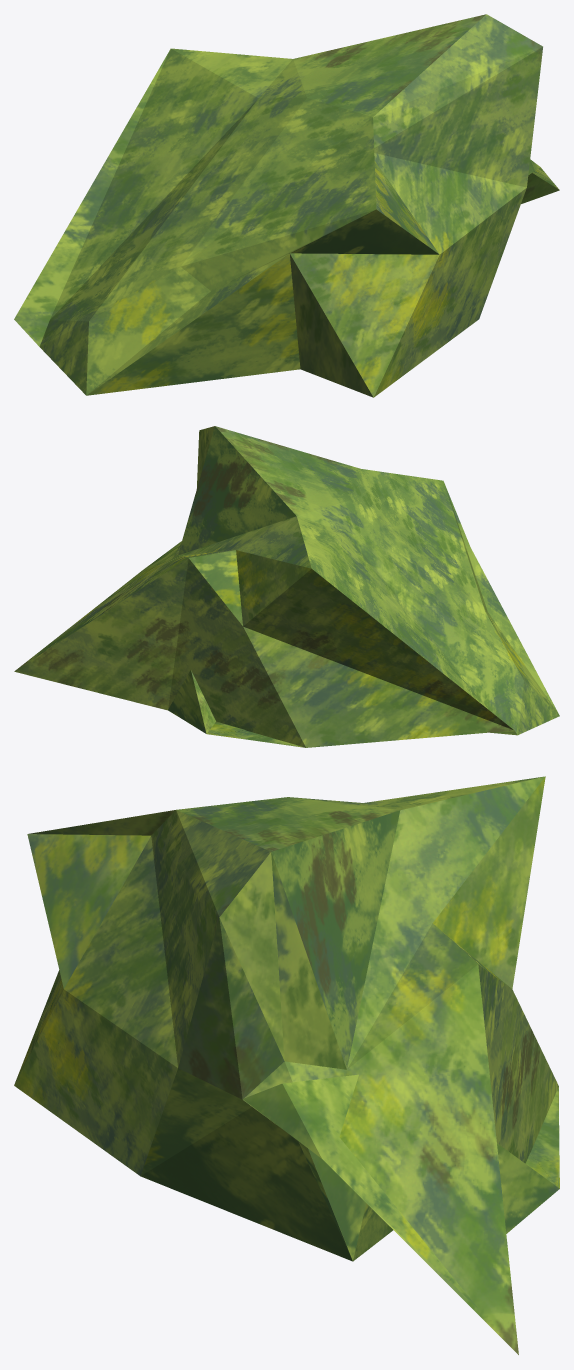
File: foliage11.glb
3 renders of one model, top to bottom at view 1: azimuth 30°, elevation 25°; view 2: azimuth 150°, elevation 25°; view 3: azimuth 270°, elevation 25°, orthographic. The views are drawn at different scales.
Visible parts, largest first — view 1: foliage1.010; view 2: foliage1.010; view 3: foliage1.010.
Part boxes in pixels (<box>): foliage1.010: <box>14,14,559,397</box>; foliage1.010: <box>14,426,559,747</box>; foliage1.010: <box>14,776,559,1354</box>.
Bounding box in the file's own units: 13.43 × 6.39 × 7.75.
1 material, 1 textured.
